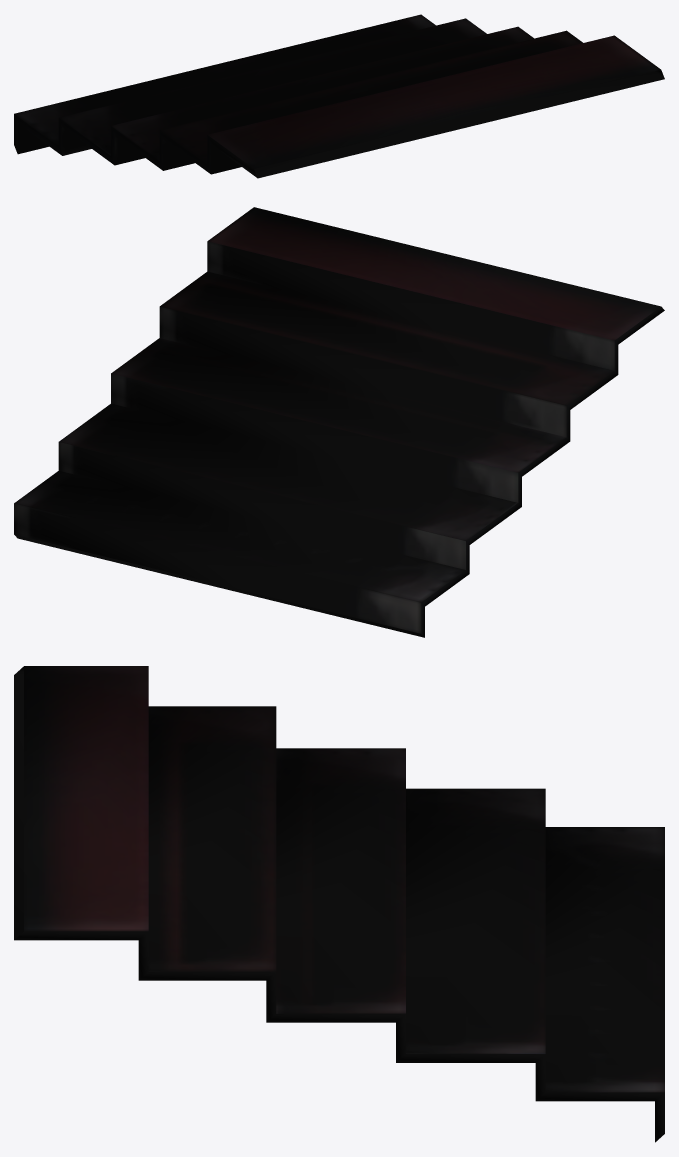
Rendered from FUS0110012.fbx.
3 renders of one model, top to bottom at view 1: azimuth 30°, elevation 25°; view 2: azimuth 150°, elevation 25°; view 3: azimuth 270°, elevation 25°, orthographic. The views are drawn at different scales.
Parts seen in each view (by area): view 1: smFUS0110012; view 2: smFUS0110012; view 3: smFUS0110012.
Part boxes in pixels (left/top/right/bottom): smFUS0110012: left=14, top=14, right=664, bottom=178; smFUS0110012: left=14, top=207, right=664, bottom=637; smFUS0110012: left=14, top=666, right=664, bottom=1142.
Size of the model in its own units: 699 by 260 by 725.
Materials: 1 (1 with a texture image).
